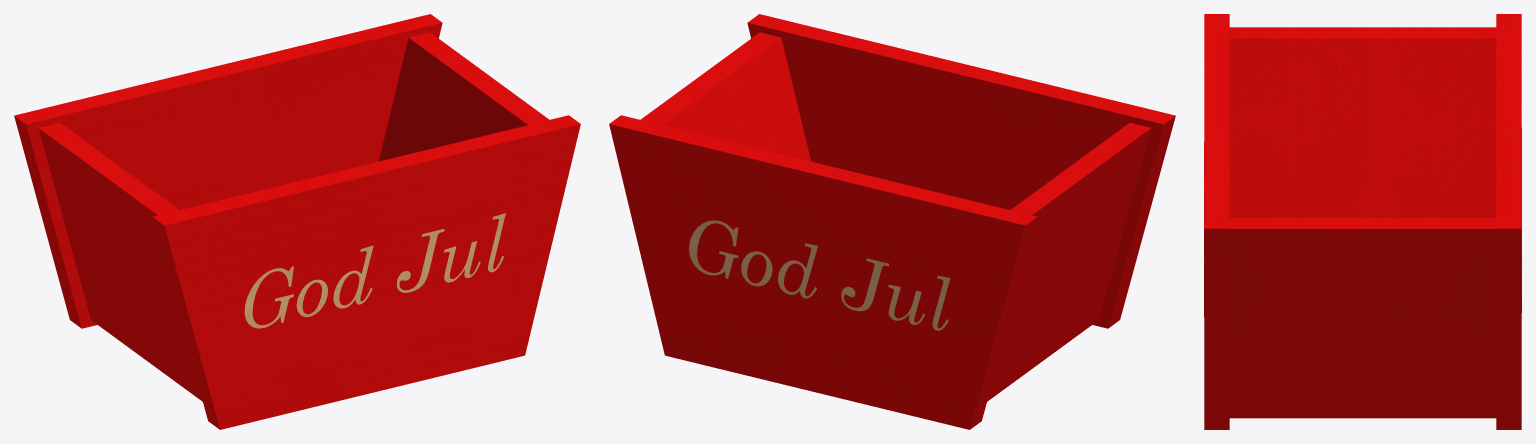
The picture shows the model from 3 angles, left to right: view 1: azimuth 30°, elevation 25°; view 2: azimuth 150°, elevation 25°; view 3: azimuth 270°, elevation 25°; orthographic projection. The views are drawn at different scales.
Parts seen in each view (by area): view 1: Jullada_vagg_1-2, Jullada_vagg_1-1, Jullada_vagg_2-2, Jullada_vagg_2-1, Jullada_botten-1; view 2: Jullada_vagg_1-1, Jullada_vagg_1-2, Jullada_vagg_2-2, Jullada_vagg_2-1, Jullada_botten-1; view 3: Jullada_vagg_2-1, Jullada_vagg_2-2, Jullada_vagg_1-1, Jullada_vagg_1-2.
Boxes of the visible parts, <box> form: Jullada_vagg_1-2: <box>152,115,580,429</box>; Jullada_vagg_1-1: <box>14,14,442,328</box>; Jullada_vagg_2-2: <box>38,122,243,401</box>; Jullada_vagg_2-1: <box>379,32,549,325</box>; Jullada_botten-1: <box>275,327,470,385</box>; Jullada_vagg_1-1: <box>609,115,1037,429</box>; Jullada_vagg_1-2: <box>747,14,1175,328</box>; Jullada_vagg_2-2: <box>946,122,1151,401</box>; Jullada_vagg_2-1: <box>640,32,810,325</box>; Jullada_botten-1: <box>719,327,914,385</box>; Jullada_vagg_2-1: <box>1229,218,1496,418</box>; Jullada_vagg_2-2: <box>1229,27,1496,217</box>; Jullada_vagg_1-1: <box>1496,14,1521,429</box>; Jullada_vagg_1-2: <box>1204,14,1229,429</box>.
Size of the model in its own units: 0.24 by 0.12 by 0.1502.
4 materials, 4 textured.
